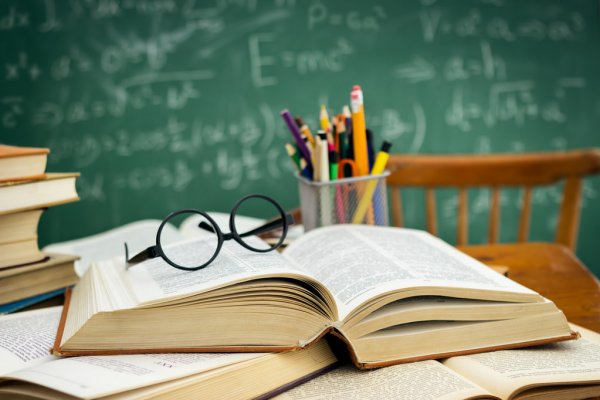Open Book: (64, 221, 587, 361), (2, 300, 344, 400), (219, 317, 600, 400)
